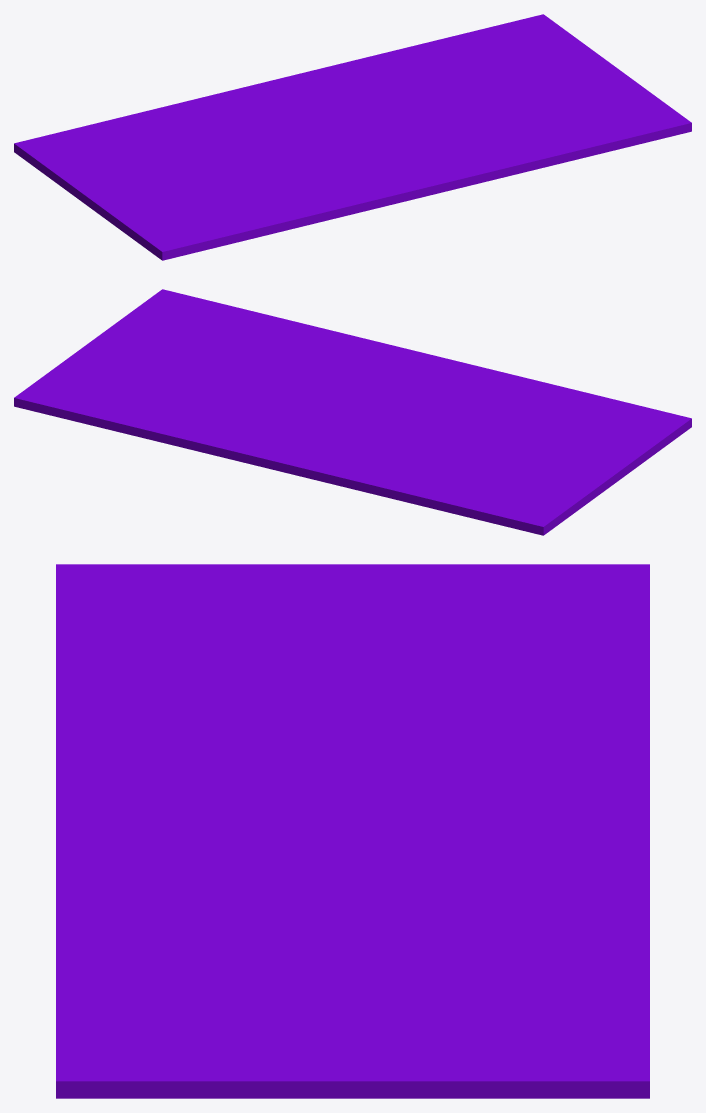
Rendered from RampN_B.fbx.
3 renders of one model, top to bottom at view 1: azimuth 30°, elevation 25°; view 2: azimuth 150°, elevation 25°; view 3: azimuth 270°, elevation 25°, orthographic. The views are drawn at different scales.
Parts seen in each view (by area): view 1: RampN_B; view 2: RampN_B; view 3: RampN_B.
Boxes of the visible parts, box(x1,y1,x2,y2) form: RampN_B: box(14, 14, 691, 260); RampN_B: box(14, 289, 691, 535); RampN_B: box(56, 564, 649, 1098).
Size of the model in its own units: 12.13 by 0.1914 by 5.89.
